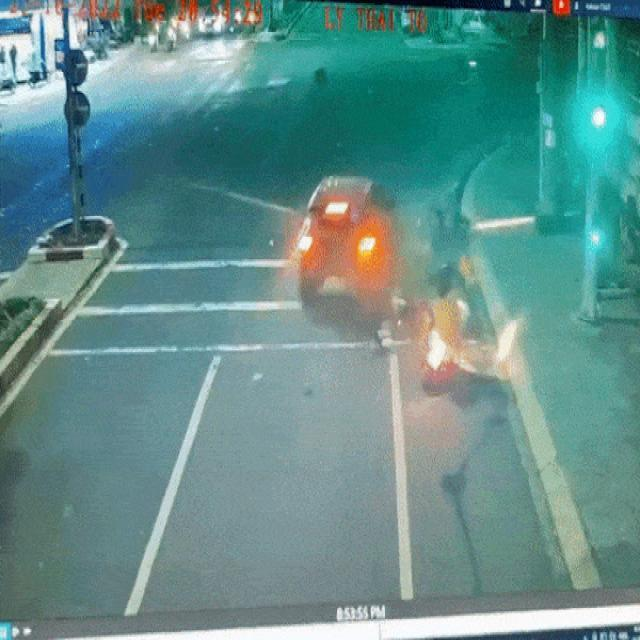multiple_accident: (291, 160, 518, 402)
